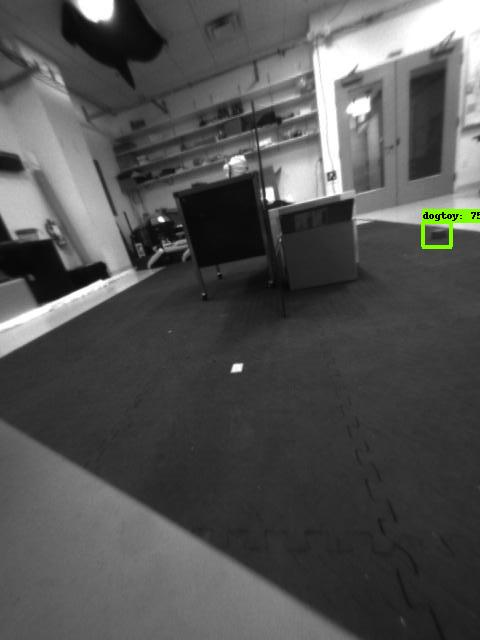dogtoy: (423, 221, 452, 246)
